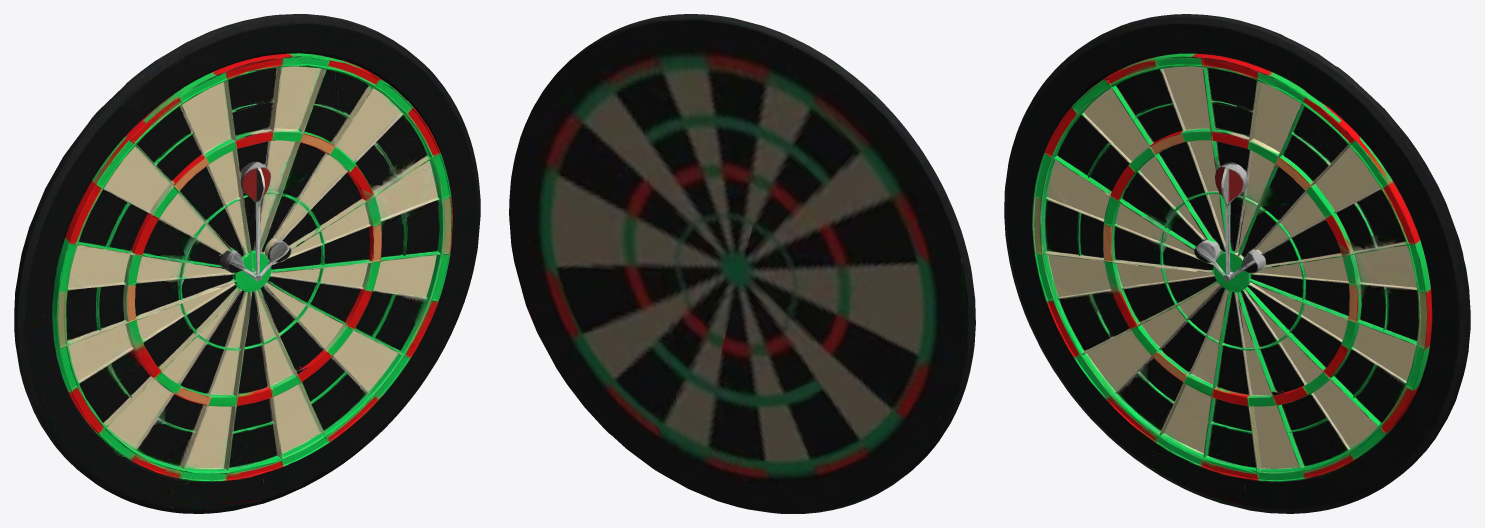
The model's file is dartboard.glb.
3 views of the same model, side by side, from view 1: azimuth 30°, elevation 25°; view 2: azimuth 150°, elevation 25°; view 3: azimuth 330°, elevation 25° (orthographic).
Size of the model in its own units: 1.9 by 1.9 by 0.1395.
Materials: 1 (1 with a texture image).
